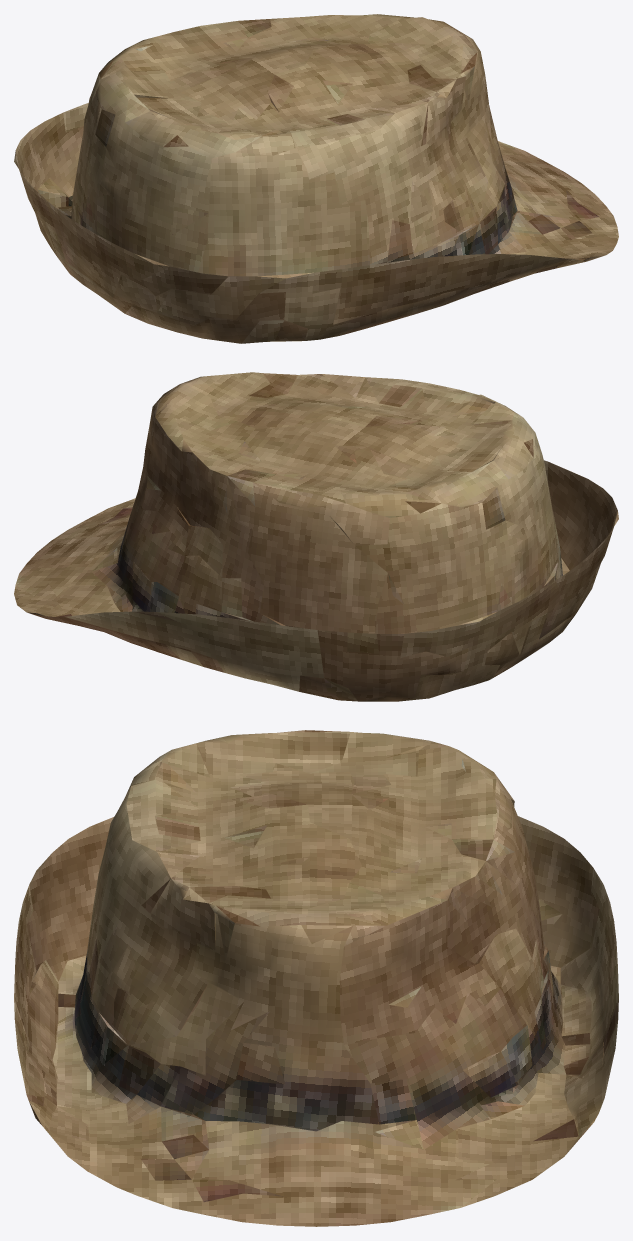
File: gg_wear_fedora.glb
The picture shows the model from 3 angles, top to bottom: view 1: azimuth 30°, elevation 25°; view 2: azimuth 150°, elevation 25°; view 3: azimuth 270°, elevation 25°; orthographic projection. The views are drawn at different scales.
Parts seen in each view (by area): view 1: mesh; view 2: mesh; view 3: mesh.
Boxes of the visible parts, left/top/right/bottom form: mesh: left=14, top=14, right=618, bottom=343; mesh: left=14, top=372, right=618, bottom=701; mesh: left=14, top=730, right=618, bottom=1226.
Bounding box in the file's own units: 0.3764 × 0.13 × 0.3038.
1 material, 1 textured.
